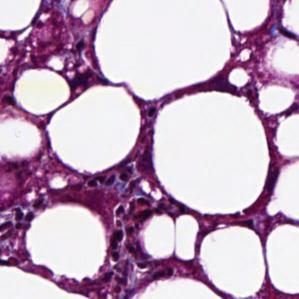inflammation: (111, 187, 161, 229)
